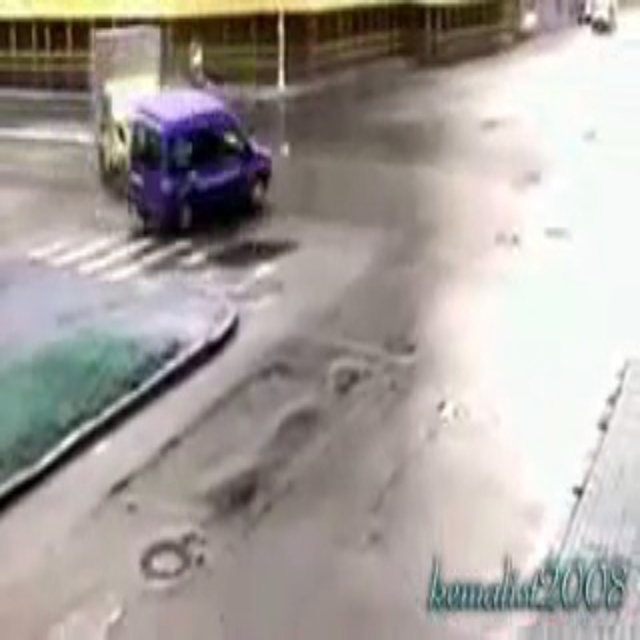acc: (69, 58, 277, 236)
